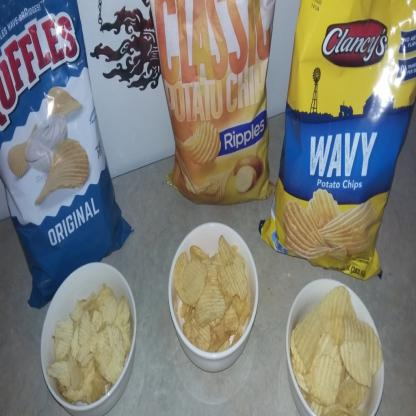potatochip: (254, 0, 416, 286), (0, 0, 136, 314), (148, 0, 280, 212)
